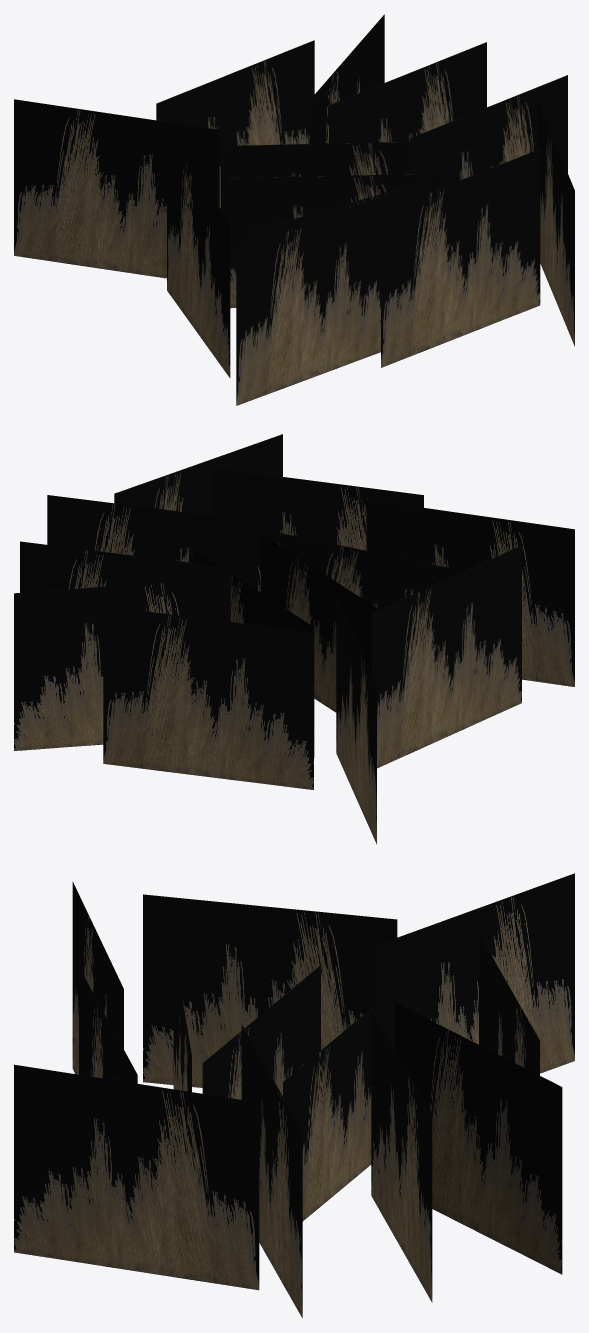
Rendered from SM_Grass_04.fbx.
The picture shows the model from 3 angles, top to bottom: view 1: azimuth 30°, elevation 25°; view 2: azimuth 150°, elevation 25°; view 3: azimuth 270°, elevation 25°; orthographic projection. The views are drawn at different scales.
Parts seen in each view (by area): view 1: Grass_04; view 2: Grass_04; view 3: Grass_04.
Boxes of the visible parts, x1=… form: Grass_04: x1=14, y1=14, x2=574, y2=405; Grass_04: x1=14, y1=434, x2=574, y2=844; Grass_04: x1=14, y1=873, x2=574, y2=1318.
Size of the model in its own units: 96.38 by 32.73 by 88.63.
